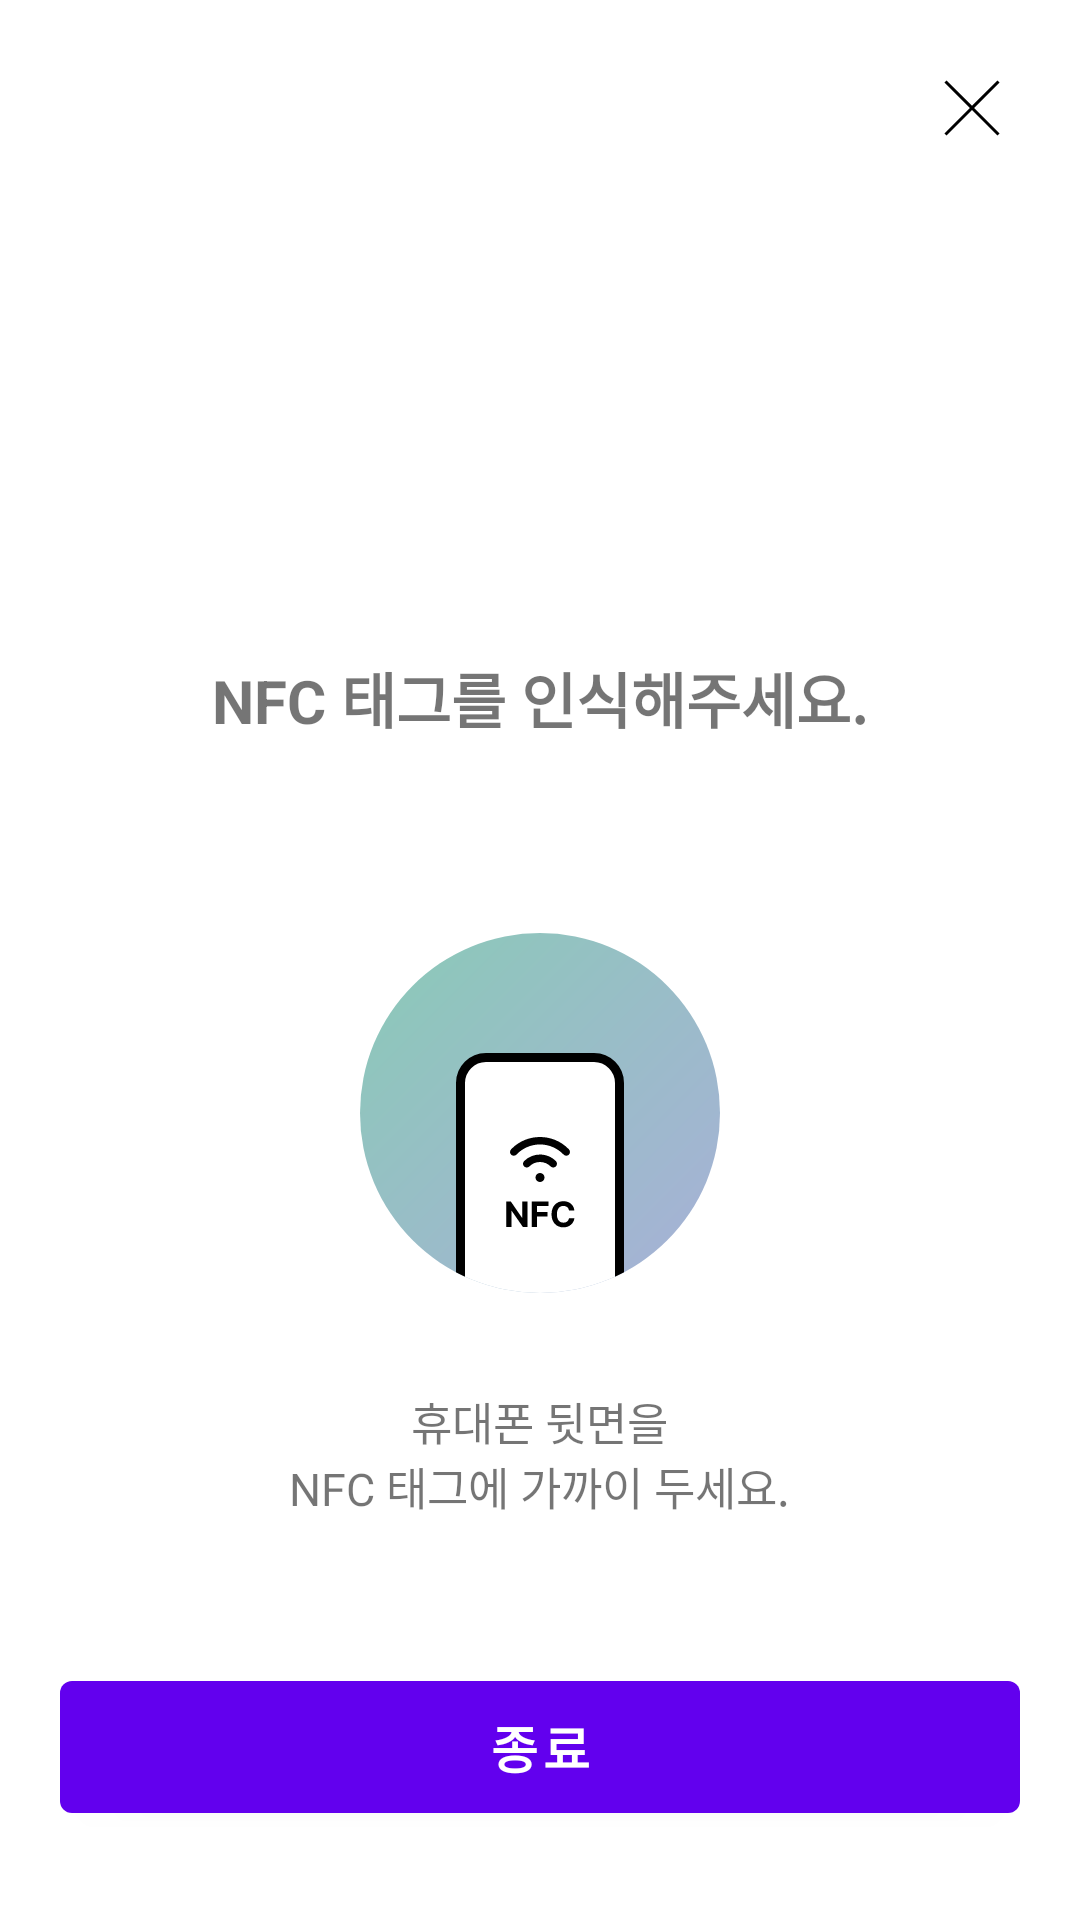

Icon bounding boxes for this 1080*1920 phone screenshot, format BBox(x1, y1, x2, y2):
close: BBox(944, 80, 1000, 136)
